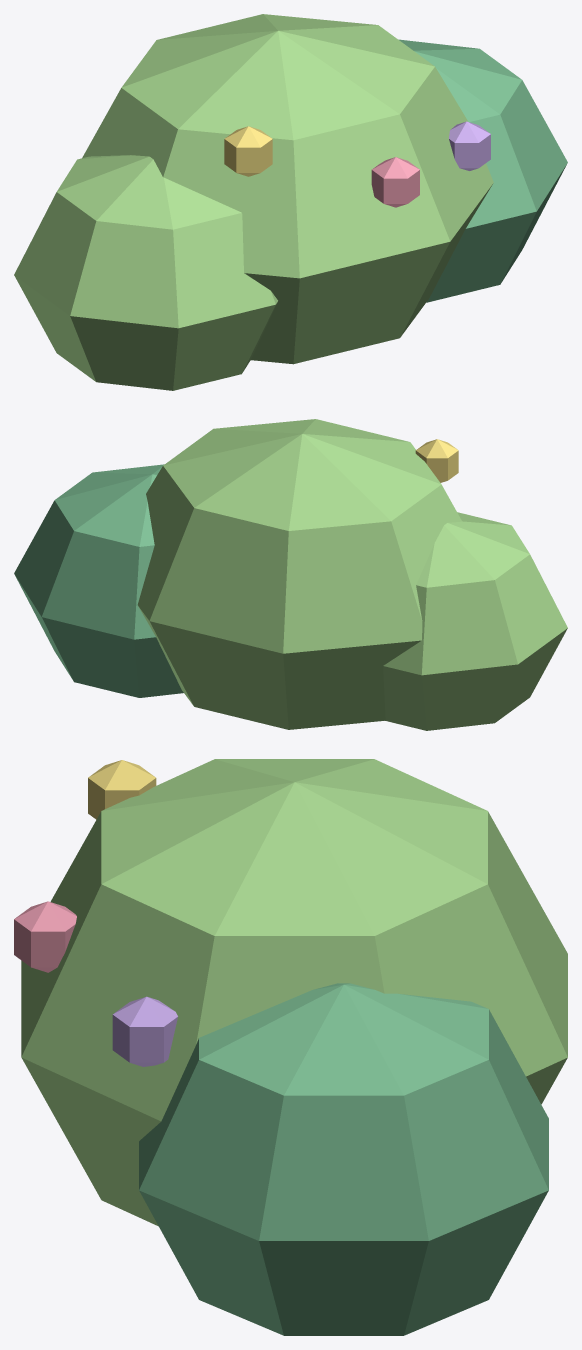
The model's file is bush.glb.
The picture shows the model from 3 angles, top to bottom: view 1: azimuth 30°, elevation 25°; view 2: azimuth 150°, elevation 25°; view 3: azimuth 270°, elevation 25°; orthographic projection. The views are drawn at different scales.
Visible parts, largest first — view 1: Player; view 2: Player; view 3: Player.
Part boxes in pixels (x1,y1,x2,y2): Player: (14,14,567,390); Player: (14,419,567,730); Player: (14,759,567,1335).
Size of the model in its own units: 1.75 by 1 by 1.12.
